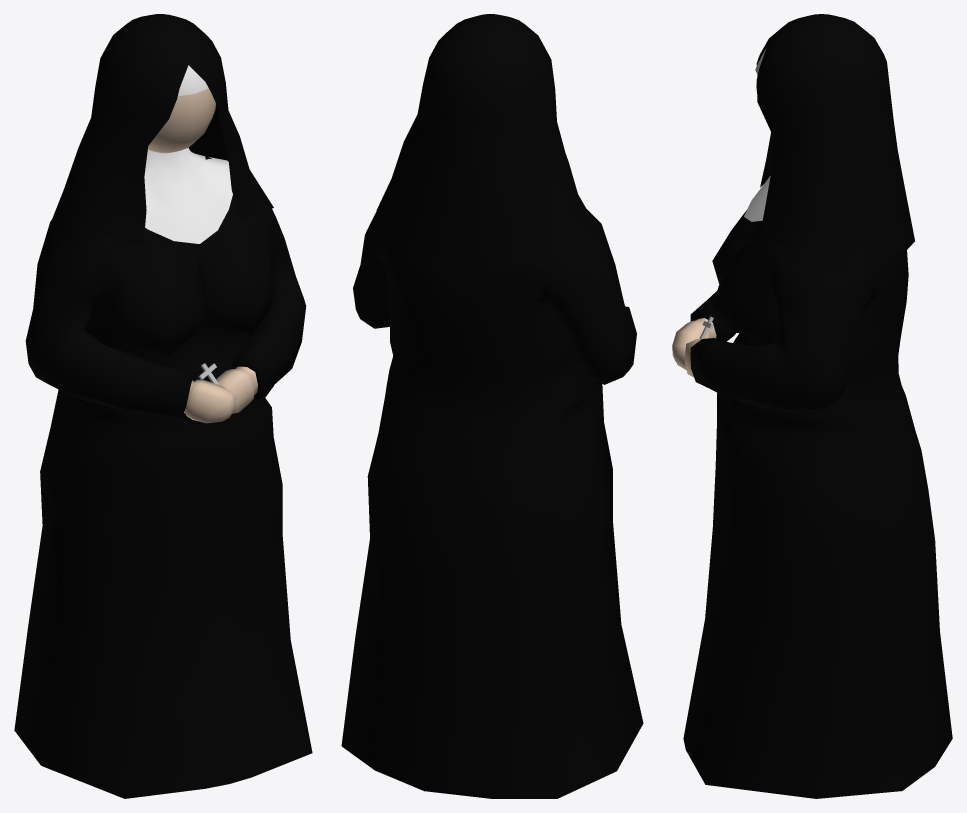
The model's file is nun.FBX.
3 views of the same model, side by side, from view 1: azimuth 30°, elevation 25°; view 2: azimuth 150°, elevation 25°; view 3: azimuth 270°, elevation 25° (orthographic).
Visible parts, largest first — view 1: nun; view 2: nun; view 3: nun.
Boxes of the visible parts, bbox=[...] form: nun: bbox=[14, 14, 312, 798]; nun: bbox=[341, 14, 643, 798]; nun: bbox=[672, 14, 952, 798].
Size of the model in its own units: 69.25 by 179 by 63.05.
